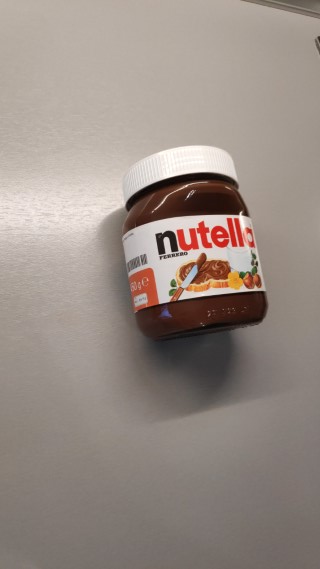nutella: (117, 142, 271, 343)
